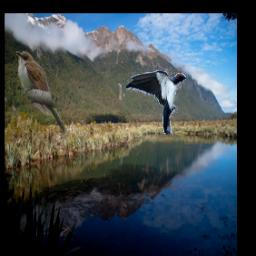Cuckoo: (15, 52, 67, 136)
Swallow: (126, 69, 188, 134)
